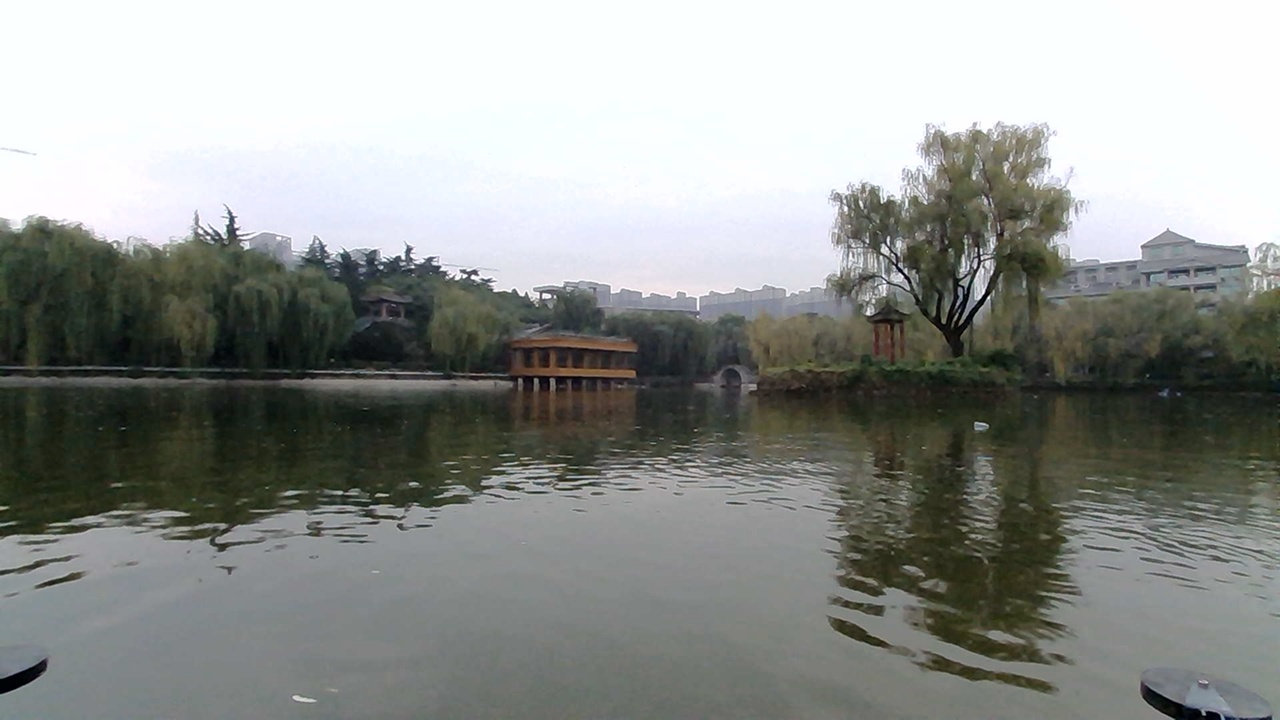bottle: (952, 408, 1007, 440)
